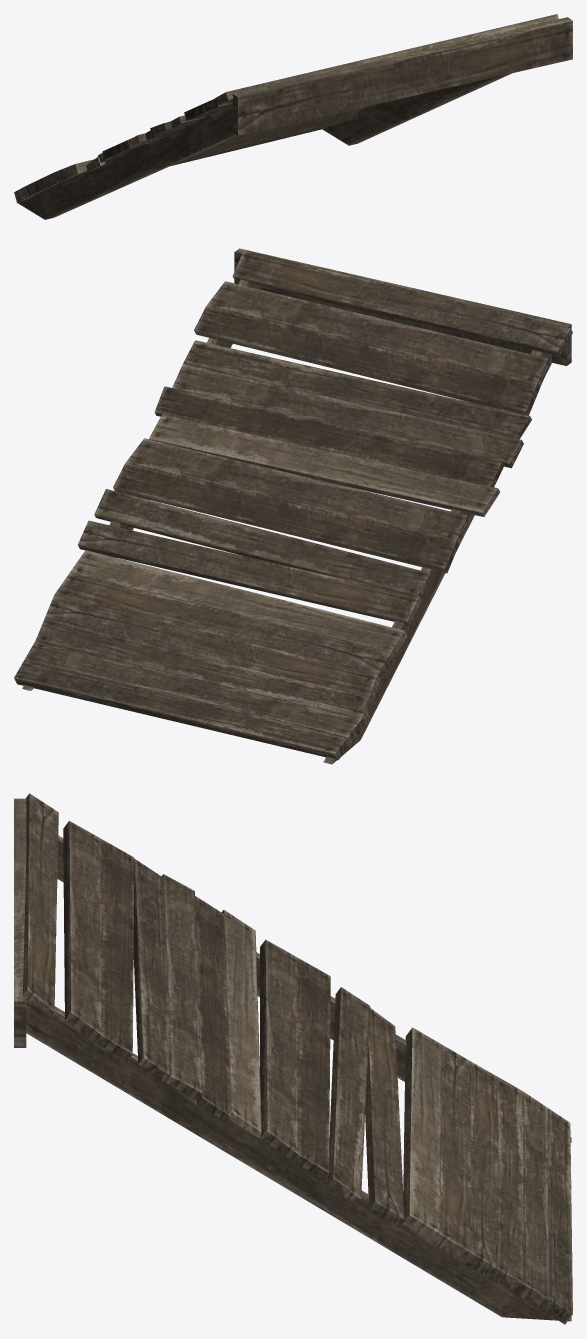
File: eso_gu3_wooddocks2-transformed.glb
3 views of the same model, one above another, from view 1: azimuth 30°, elevation 25°; view 2: azimuth 150°, elevation 25°; view 3: azimuth 270°, elevation 25° (orthographic). The views are drawn at different scales.
Visible parts, largest first — view 1: default; view 2: default; view 3: default.
Boxes of the visible parts, <box> form: default: <box>14,14,572,219</box>; default: <box>14,248,572,764</box>; default: <box>14,793,572,1324</box>.
Bounding box in the file's own units: 7.66 × 5.83 × 8.79.
1 material, 1 textured.
